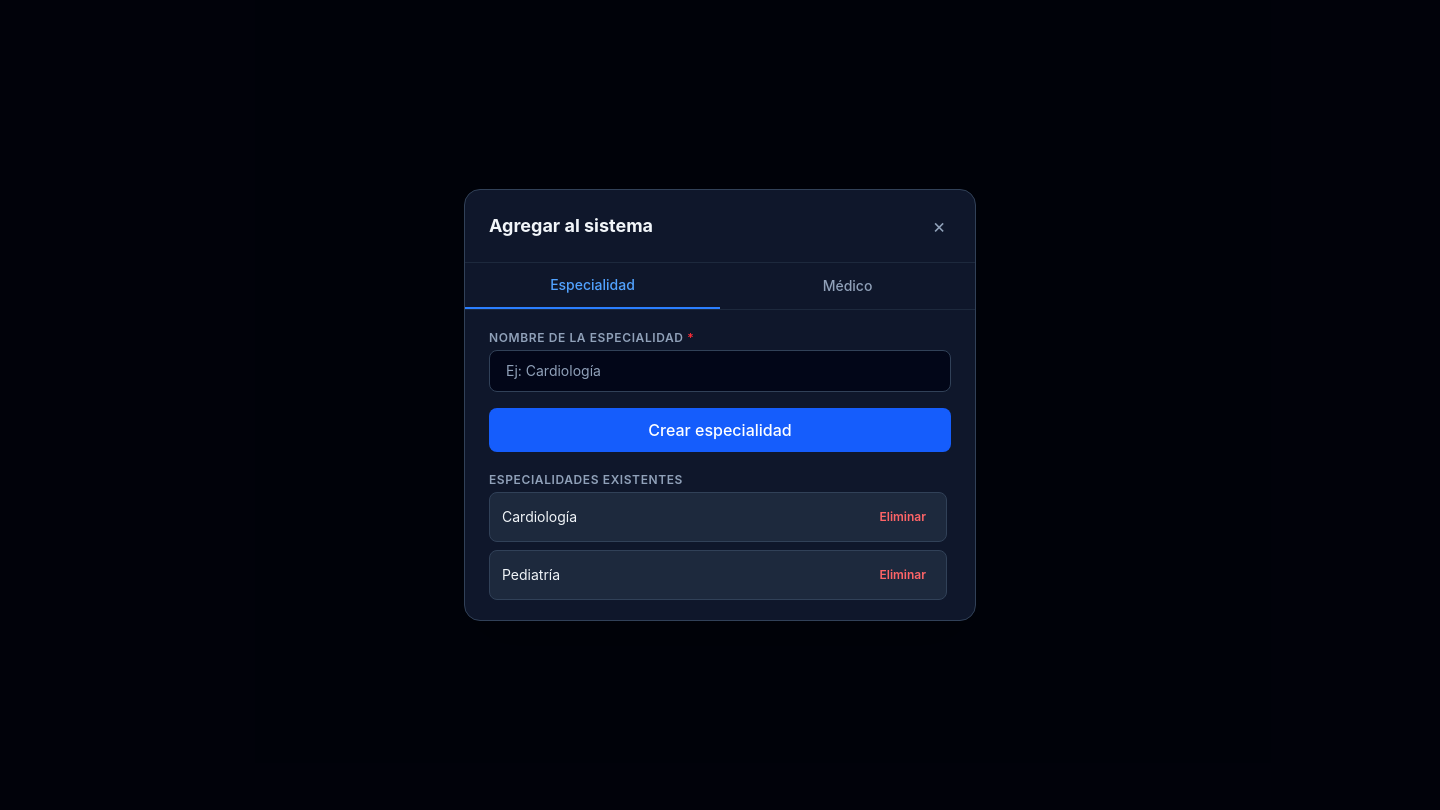
alta de especialidades › eliminar pide confirmación y lista los médicos afectados
The width and height of the screenshot is (1440, 810).
Check: the text "Cardiología" is shown, box x1=502 y1=507 x2=577 y2=527
Click the button "Eliminar" in the row of "Cardiología" at (903, 517), box x1=872 y1=501 x2=934 y2=533
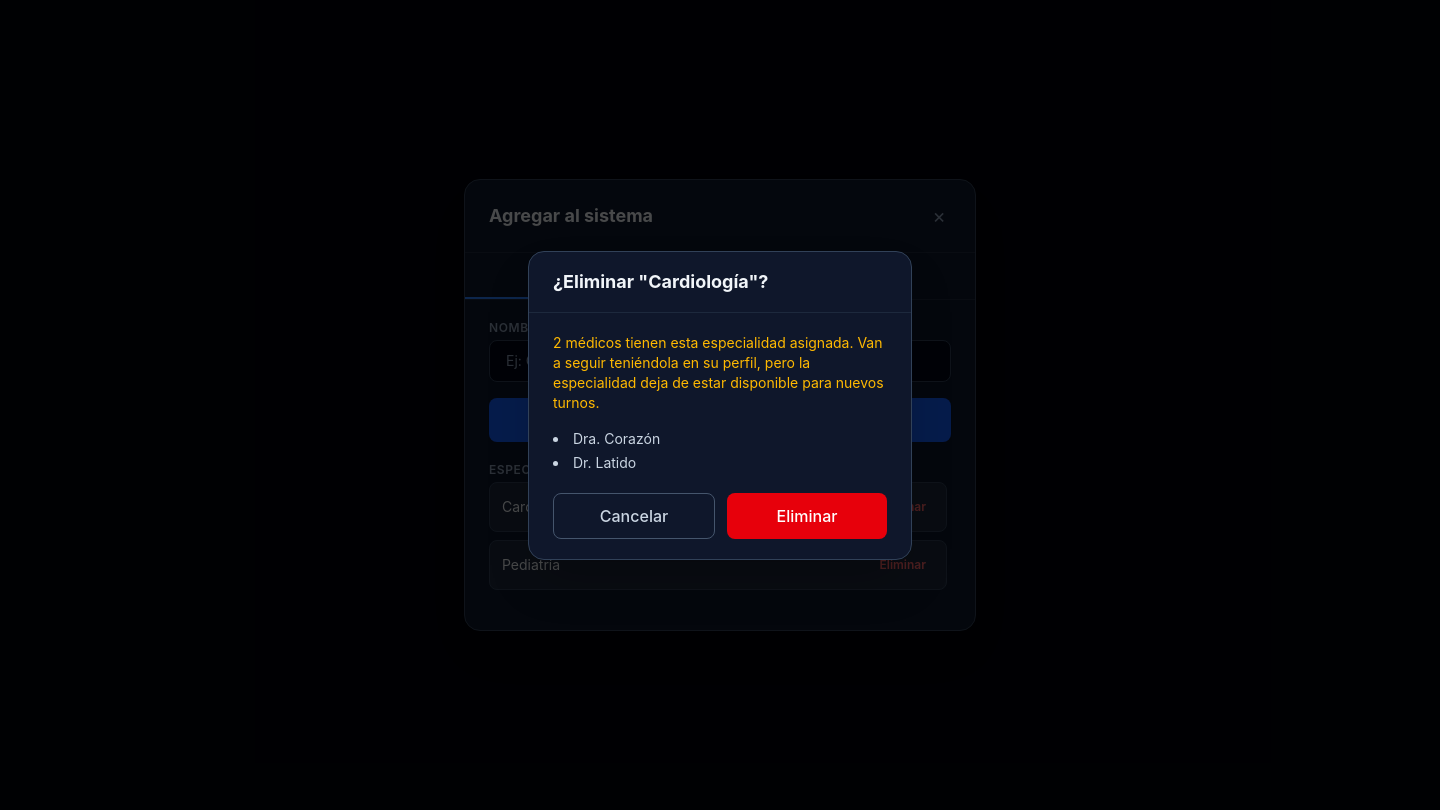
Check: the heading "¿Eliminar \"Cardiología\"?" is shown, box x1=553 y1=270 x2=768 y2=292
Check: the text "2 médicos tienen esta especialidad asignada" is shown, box x1=553 y1=332 x2=887 y2=412
Check: the list item "Dra. Corazón" is shown, box x1=573 y1=430 x2=660 y2=446
